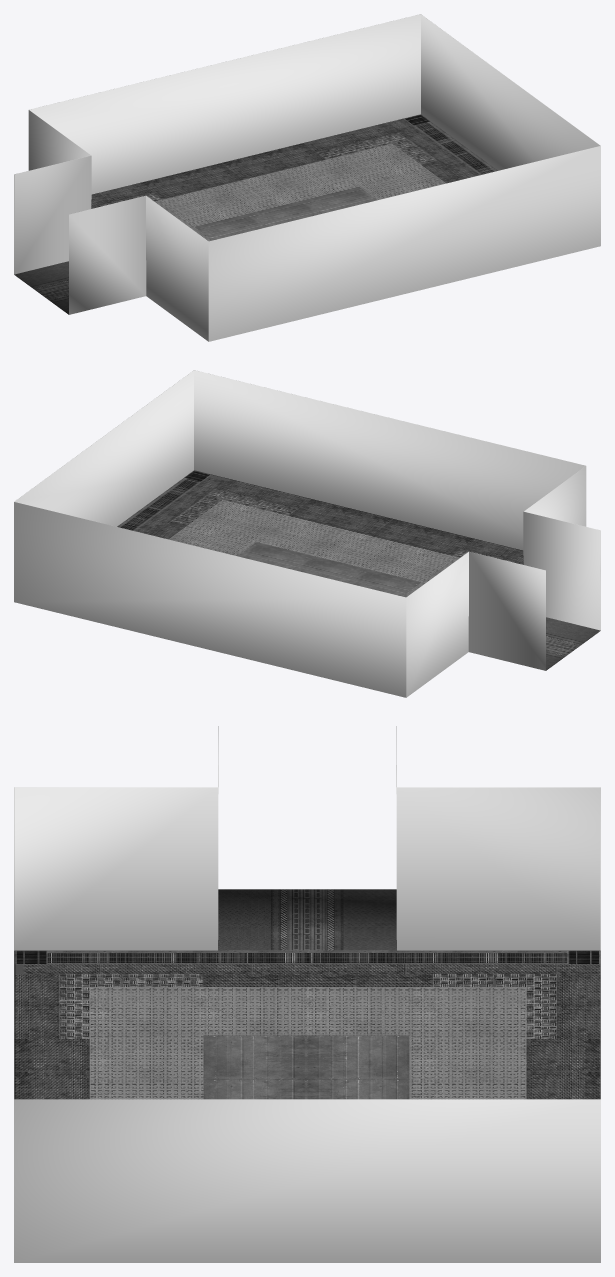
Rendered from dressing_room.fbx.
3 views of the same model, one above another, from view 1: azimuth 30°, elevation 25°; view 2: azimuth 150°, elevation 25°; view 3: azimuth 270°, elevation 25° (orthographic). The views are drawn at different scales.
Parts seen in each view (by area): view 1: dressing room; view 2: dressing room; view 3: dressing room.
Part boxes in pixels (x1,y1,x2,y2): dressing room: (14,14,600,341); dressing room: (14,370,600,697); dressing room: (14,726,600,1262).
Size of the model in its own units: 1773 by 362 by 1178.
